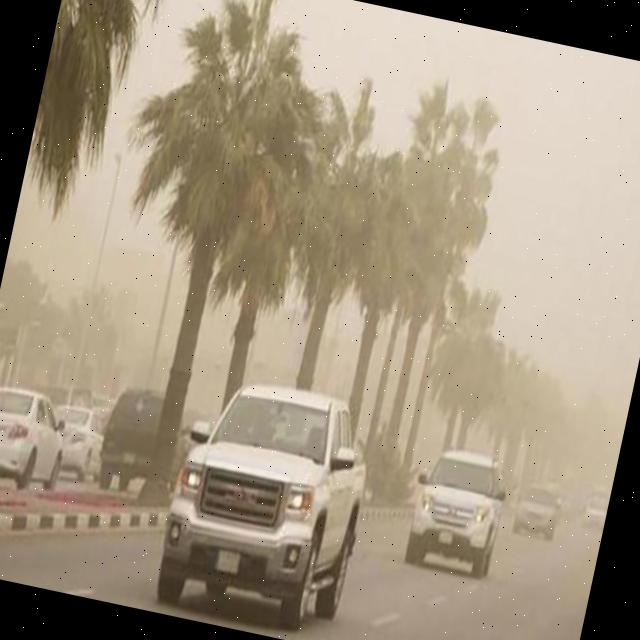car: (152, 372, 380, 635), (399, 442, 514, 583), (97, 379, 190, 499), (0, 377, 76, 498), (42, 395, 110, 487), (510, 479, 566, 542), (580, 494, 608, 530), (552, 489, 578, 521)
